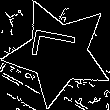L_E: (30, 33, 87, 73)
